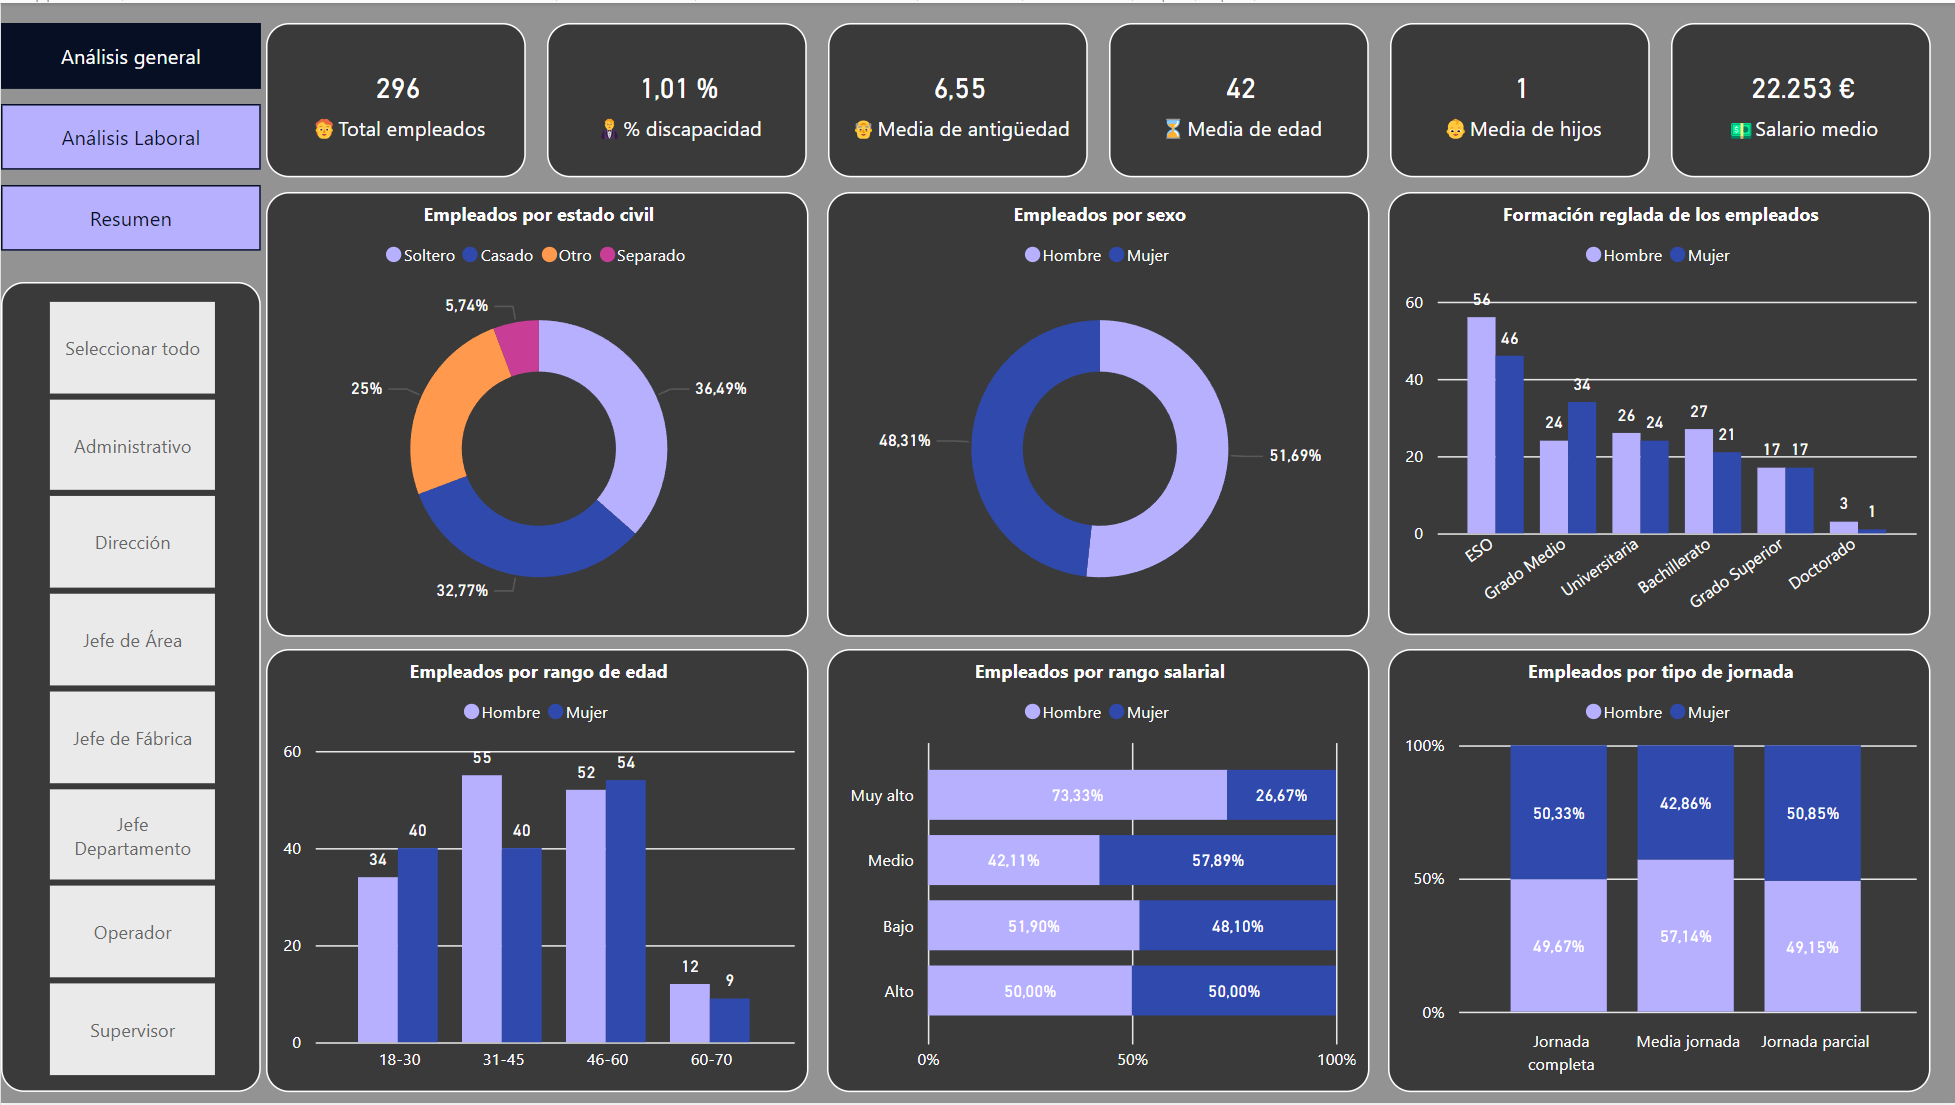

The dashboard page shown, as its layout file describes it:
{"tool":"powerbi","page":{"name":"Análisis general","canvas":[1280,720],"ordinal":0},"visuals":[{"type":"donutChart","title":"Empleados por estado civil","fields":{"Y":["Dax Medidas.Num empleados"],"Category":["Tabla_datos.ESTADO CIVIL"]},"box":[173.7,123.5,355.1,290.6],"z":0},{"type":"donutChart","title":"Empleados por sexo","fields":{"Y":["Dax Medidas.Num empleados"],"Category":["Tabla_datos.Sexo"]},"box":[540.8,123.5,355.1,290.6],"z":1000},{"type":"slicer","fields":{"Values":["Tabla_datos.Categoría laboral"]},"box":[0,182.5,170.4,529.9],"z":2000},{"type":"clusteredColumnChart","title":"Formación reglada de los empleados","fields":{"Category":["Tabla_datos.Formación Oficial Reglada"],"Y":["Dax Medidas.Num empleados"],"Series":["Tabla_datos.Sexo"]},"box":[907.9,123.5,355.1,290],"z":3000},{"type":"card","fields":{"Values":["Dax Medidas.% discapacidad"]},"box":[357.5,13.1,170.4,100.5],"z":4000},{"type":"card","fields":{"Values":["Avg(Tabla_datos.Antigüedad Años)"]},"box":[541.3,13.1,170.4,100.5],"z":5000},{"type":"card","fields":{"Values":["Avg(Tabla_datos.Edad)"]},"box":[725,13.1,170.4,100.5],"z":6000},{"type":"card","fields":{"Values":["Avg(Tabla_datos.Salario Anual Actual 2020)"]},"box":[1092.6,13.1,170.4,100.5],"z":7000},{"type":"clusteredColumnChart","title":"Empleados por rango de edad","fields":{"Category":["Tabla_datos.Rango de edad"],"Y":["Dax Medidas.Num empleados"],"Series":["Tabla_datos.Sexo"]},"box":[173.7,422.8,355,290],"z":8000},{"type":"hundredPercentStackedBarChart","title":"Empleados por rango salarial","fields":{"Category":["Tabla_datos.Rango salario"],"Y":["Dax Medidas.Num empleados"],"Series":["Tabla_datos.Sexo"]},"box":[540.8,422.8,355.1,290],"z":9000},{"type":"card","fields":{"Values":["Avg(Tabla_datos.HIJOS)"]},"box":[908.8,13.1,170.4,100.5],"z":10000},{"type":"hundredPercentStackedColumnChart","title":"Empleados por tipo de jornada","fields":{"Category":["Tabla_datos.Rango Jornada"],"Y":["Dax Medidas.Num empleados"],"Series":["Tabla_datos.Sexo"]},"box":[907.9,422.8,355.1,290],"z":11000},{"type":"card","fields":{"Values":["Dax Medidas.Num empleados"]},"box":[173.7,13.1,170.4,100.5],"z":12000},{"type":"pageNavigator","box":[0,13.1,170,150],"z":13000}]}

Visuals, with their boxes on the page's 1280x720 design canvas (x1, y1, x2, y2). These are canvas units, not pixel positions in the 1955x1105 screenshot, which may show the page scaled, cropped or inside an application window:
"Empleados por estado civil" donutChart: pyautogui.locateOnScreen(174, 124, 529, 414)
"Empleados por sexo" donutChart: pyautogui.locateOnScreen(541, 124, 896, 414)
slicer - Tabla_datos.Categoría laboral: pyautogui.locateOnScreen(0, 182, 170, 712)
"Formación reglada de los empleados" clusteredColumnChart: pyautogui.locateOnScreen(908, 124, 1263, 414)
card - Dax Medidas.% discapacidad: pyautogui.locateOnScreen(358, 13, 528, 114)
card - Avg(Tabla_datos.Antigüedad Años): pyautogui.locateOnScreen(541, 13, 712, 114)
card - Avg(Tabla_datos.Edad): pyautogui.locateOnScreen(725, 13, 895, 114)
card - Avg(Tabla_datos.Salario Anual Actual 2020): pyautogui.locateOnScreen(1093, 13, 1263, 114)
"Empleados por rango de edad" clusteredColumnChart: pyautogui.locateOnScreen(174, 423, 529, 713)
"Empleados por rango salarial" hundredPercentStackedBarChart: pyautogui.locateOnScreen(541, 423, 896, 713)
card - Avg(Tabla_datos.HIJOS): pyautogui.locateOnScreen(909, 13, 1079, 114)
"Empleados por tipo de jornada" hundredPercentStackedColumnChart: pyautogui.locateOnScreen(908, 423, 1263, 713)
card - Dax Medidas.Num empleados: pyautogui.locateOnScreen(174, 13, 344, 114)
pageNavigator: pyautogui.locateOnScreen(0, 13, 170, 163)
